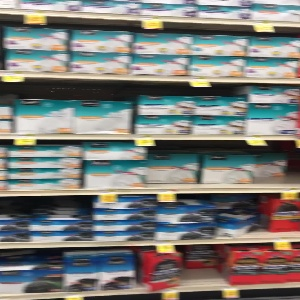void: (182, 247, 227, 284)
